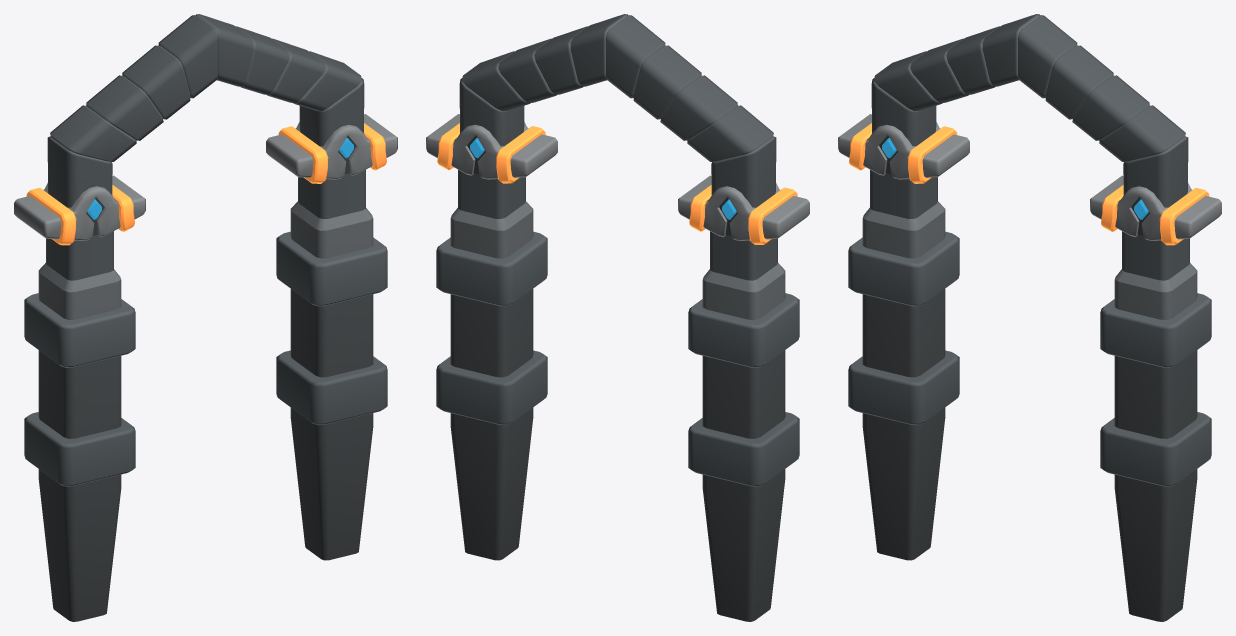
Rendered from passage_001.glb.
The picture shows the model from 3 angles, left to right: view 1: azimuth 30°, elevation 25°; view 2: azimuth 150°, elevation 25°; view 3: azimuth 330°, elevation 25°; orthographic projection.
Parts seen in each view (by area): view 1: passage_001; view 2: passage_001; view 3: passage_001.
Part boxes in pixels (x1,y1,x2,y2): passage_001: [14, 14, 397, 621]; passage_001: [426, 14, 809, 621]; passage_001: [838, 14, 1221, 621].
Size of the model in its own units: 12.55 by 18.9 by 2.71.
3 materials, 3 textured.
